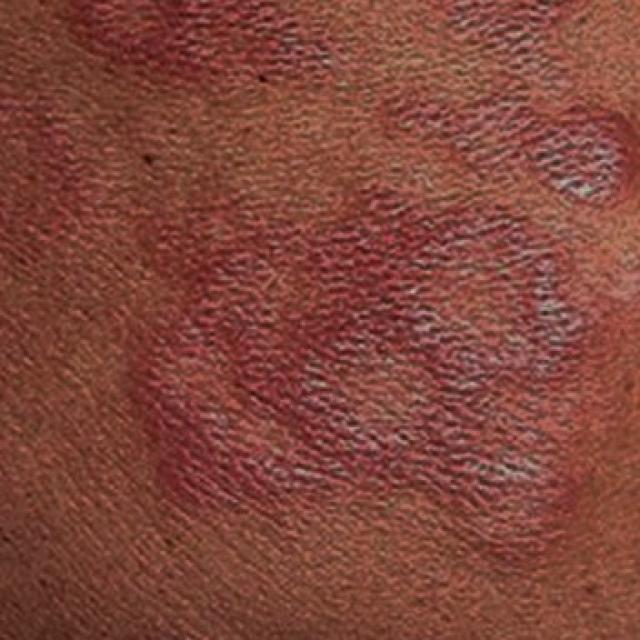Leprosy: (133, 189, 596, 571), (382, 80, 640, 208), (58, 0, 346, 98), (0, 69, 89, 293), (436, 0, 582, 69)
